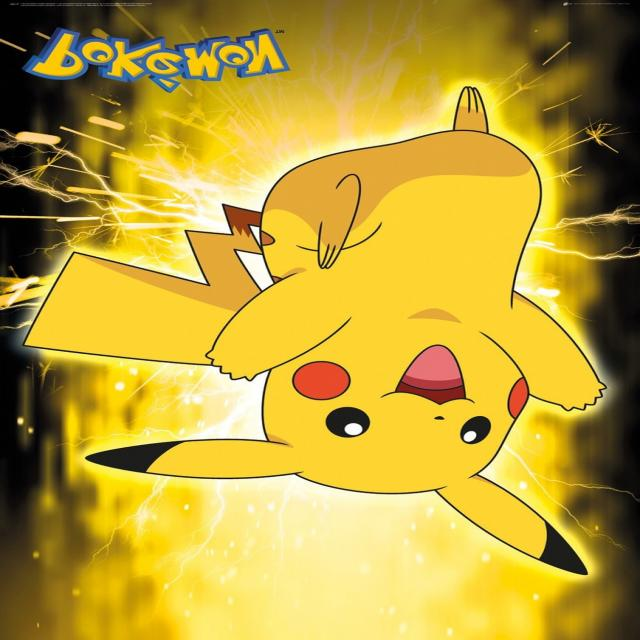Pikachu: (7, 71, 640, 635)
